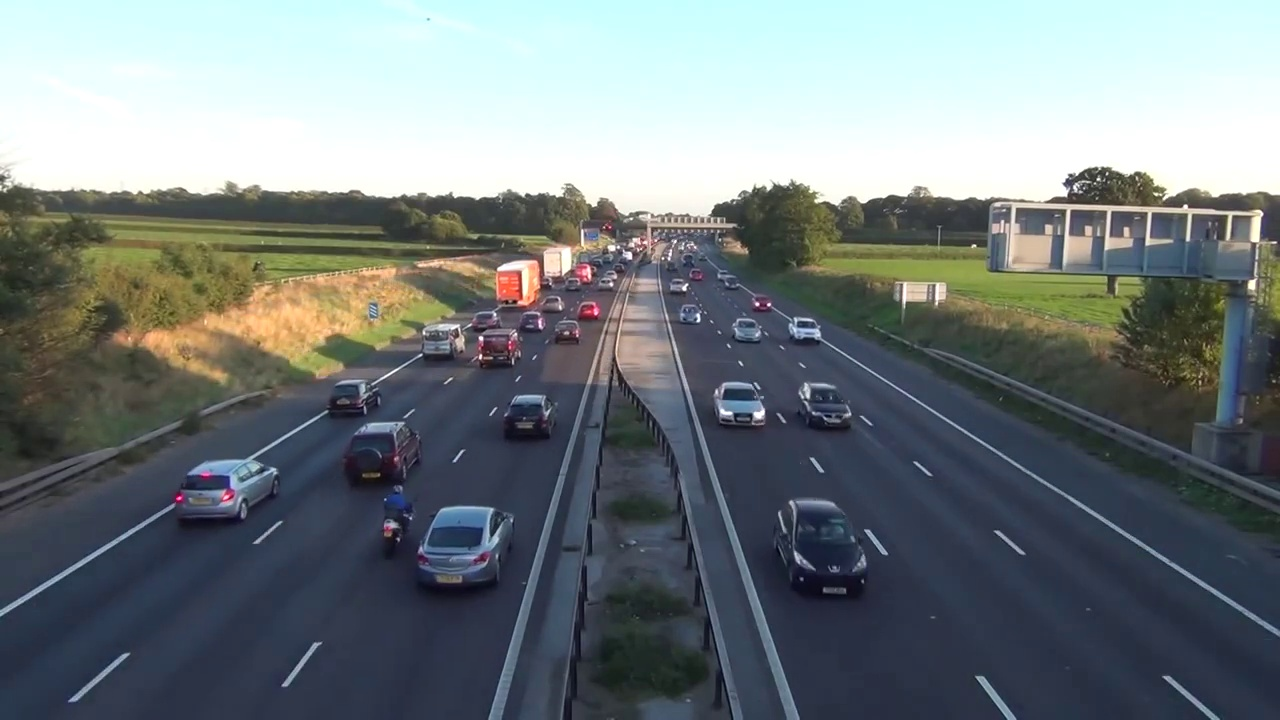bus: (774, 499, 883, 602), (416, 502, 523, 593), (170, 458, 290, 532), (344, 424, 426, 481), (794, 377, 854, 442), (713, 375, 767, 431), (505, 393, 556, 442), (331, 376, 384, 414), (789, 316, 821, 348), (731, 316, 761, 345), (471, 311, 503, 331), (540, 295, 567, 315), (679, 304, 703, 325), (555, 321, 579, 340), (751, 294, 774, 312), (520, 314, 545, 330), (578, 301, 600, 318), (669, 277, 689, 294), (565, 276, 585, 291), (598, 277, 614, 291), (724, 276, 739, 290), (689, 268, 703, 281), (716, 270, 731, 281), (539, 277, 554, 287), (666, 261, 679, 272), (605, 270, 619, 280), (593, 259, 606, 268), (614, 263, 627, 272), (591, 267, 600, 276)
car: (496, 259, 541, 306), (543, 245, 571, 282)
jeep: (379, 482, 420, 553)
lorry: (479, 328, 519, 365), (419, 325, 462, 357), (572, 256, 577, 273)
minibus: (574, 264, 593, 286), (681, 253, 696, 268)
